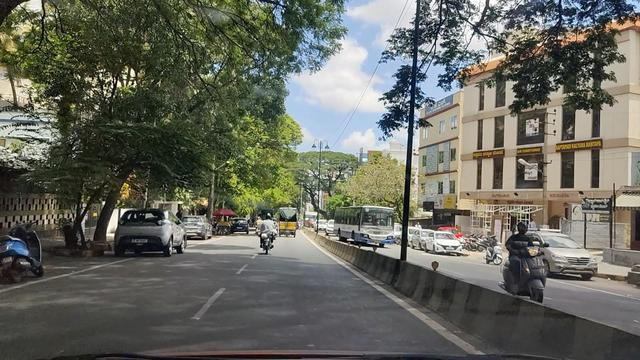LMV: (115, 209, 179, 258), (256, 211, 283, 252)
